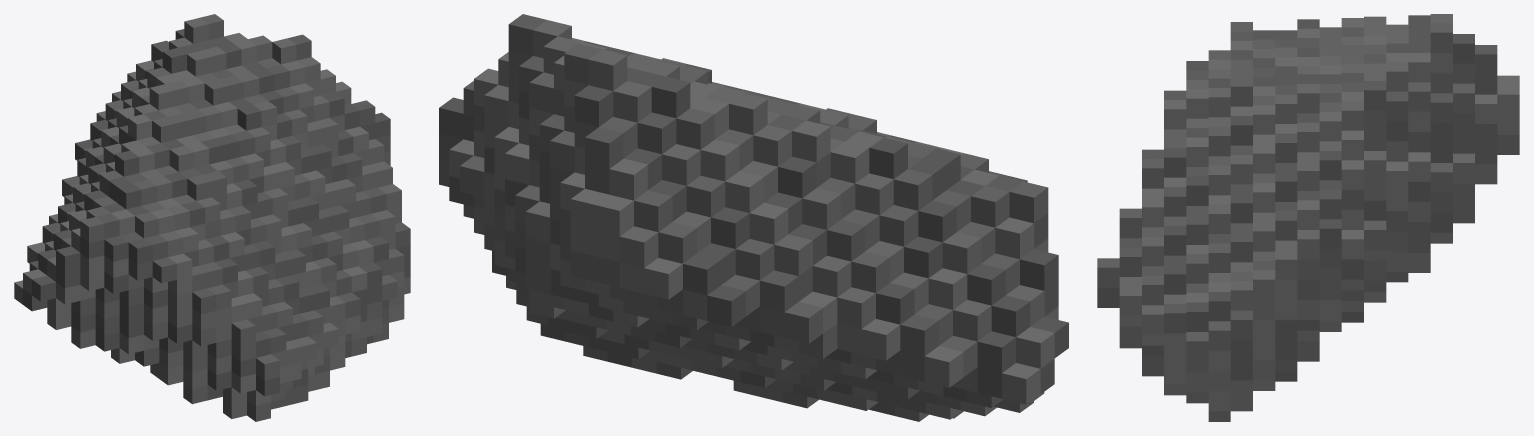
The model's file is Asteroid_A3.fbx.
The picture shows the model from 3 angles, left to right: view 1: azimuth 30°, elevation 25°; view 2: azimuth 150°, elevation 25°; view 3: azimuth 270°, elevation 25°; orthographic projection. The views are drawn at different scales.
Visible parts, largest first — view 1: T1-2; view 2: T1-2; view 3: T1-2.
Part boxes in pixels (x1,y1,x2,y2): T1-2: (14, 14, 410, 421); T1-2: (439, 14, 1068, 421); T1-2: (1097, 14, 1519, 421).
Bounding box in the file's own units: 240 × 180 × 190.
